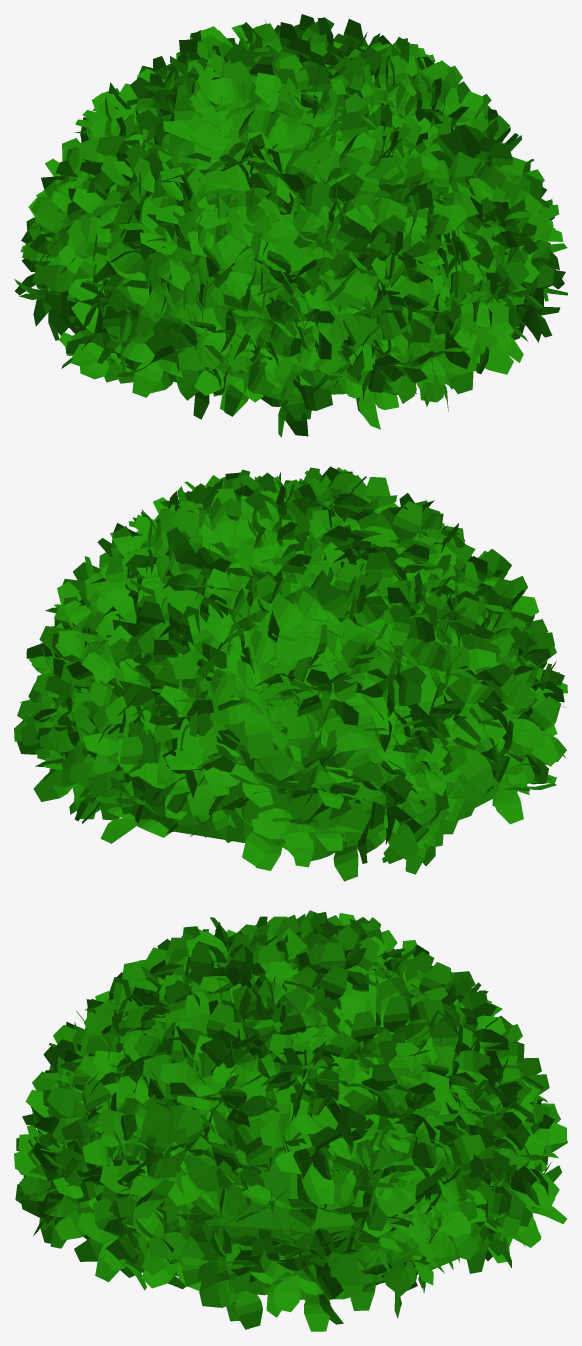
File: bushs.fbx
3 views of the same model, one above another, from view 1: azimuth 30°, elevation 25°; view 2: azimuth 150°, elevation 25°; view 3: azimuth 270°, elevation 25° (orthographic).
Visible parts, largest first — view 1: bush, bush|leaf|Dupli|415, bush|leaf|Dupli|188, bush|leaf|Dupli|601, bush|leaf|Dupli|144, bush|leaf|Dupli|348, bush|leaf|Dupli|56, bush|leaf|Dupli|215, bush|leaf|Dupli|644, bush|leaf|Dupli|524, bush|leaf|Dupli|606, bush|leaf|Dupli|617 (+113 smaller); view 2: bush, bush|leaf|Dupli|466, bush|leaf|Dupli|65, bush|leaf|Dupli|244, bush|leaf|Dupli|684, bush|leaf|Dupli|613, bush|leaf|Dupli|681, bush|leaf|Dupli|136, bush|leaf|Dupli|496, bush|leaf|Dupli|546, bush|leaf|Dupli|266, bush|leaf|Dupli|167 (+112 smaller); view 3: bush, bush|leaf|Dupli|41, bush|leaf|Dupli|544, bush|leaf|Dupli|665, bush|leaf|Dupli|220, bush|leaf|Dupli|416, bush|leaf|Dupli|426, bush|leaf|Dupli|577, bush|leaf|Dupli|525, bush|leaf|Dupli|75, bush|leaf|Dupli|344, bush|leaf|Dupli|656 (+118 smaller).
Boxes of the visible parts, x1,y1,x2,y2 form: bush: (57, 74, 516, 395); bush|leaf|Dupli|415: (211, 234, 268, 311); bush|leaf|Dupli|188: (114, 342, 183, 397); bush|leaf|Dupli|601: (107, 241, 154, 312); bush|leaf|Dupli|144: (215, 173, 277, 244); bush|leaf|Dupli|348: (420, 331, 477, 402); bush|leaf|Dupli|56: (337, 276, 382, 354); bush|leaf|Dupli|215: (356, 164, 407, 240); bush|leaf|Dupli|644: (261, 355, 332, 436); bush|leaf|Dupli|524: (338, 376, 399, 429); bush|leaf|Dupli|606: (293, 220, 377, 276); bush|leaf|Dupli|617: (177, 169, 246, 232); bush: (90, 529, 499, 843); bush|leaf|Dupli|466: (209, 662, 285, 752); bush|leaf|Dupli|65: (335, 748, 409, 821); bush|leaf|Dupli|244: (311, 799, 358, 881); bush|leaf|Dupli|684: (463, 719, 506, 792); bush|leaf|Dupli|613: (88, 736, 142, 814); bush|leaf|Dupli|681: (316, 583, 388, 627); bush|leaf|Dupli|136: (358, 501, 437, 563); bush|leaf|Dupli|496: (165, 527, 230, 575); bush|leaf|Dupli|546: (355, 797, 423, 860); bush|leaf|Dupli|266: (206, 761, 273, 807); bush|leaf|Dupli|167: (172, 614, 215, 685); bush: (62, 957, 510, 1288); bush|leaf|Dupli|41: (181, 1149, 254, 1220); bush|leaf|Dupli|544: (199, 1243, 269, 1329); bush|leaf|Dupli|665: (177, 1063, 236, 1144); bush|leaf|Dupli|220: (148, 1209, 200, 1286); bush|leaf|Dupli|416: (204, 1107, 265, 1186); bush|leaf|Dupli|426: (251, 1265, 337, 1312); bush|leaf|Dupli|577: (255, 1197, 330, 1266); bush|leaf|Dupli|525: (432, 1020, 490, 1073); bush|leaf|Dupli|75: (229, 1136, 306, 1197); bush|leaf|Dupli|344: (390, 1042, 448, 1113); bush|leaf|Dupli|656: (327, 1230, 392, 1310).
Size of the model in its own units: 232 by 137 by 231.
